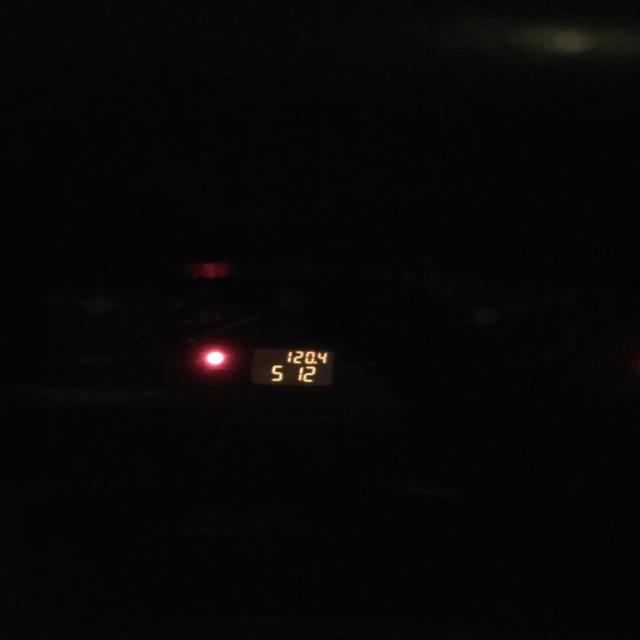odometer: (248, 344, 338, 386)
